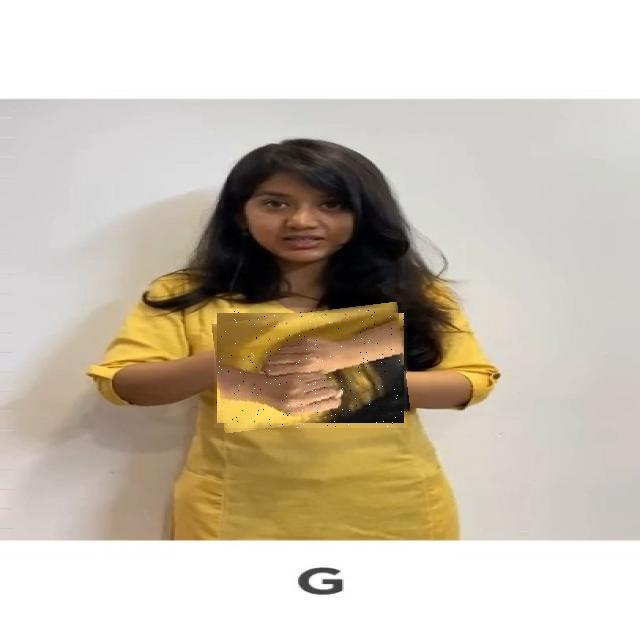G: (214, 308, 407, 428)
